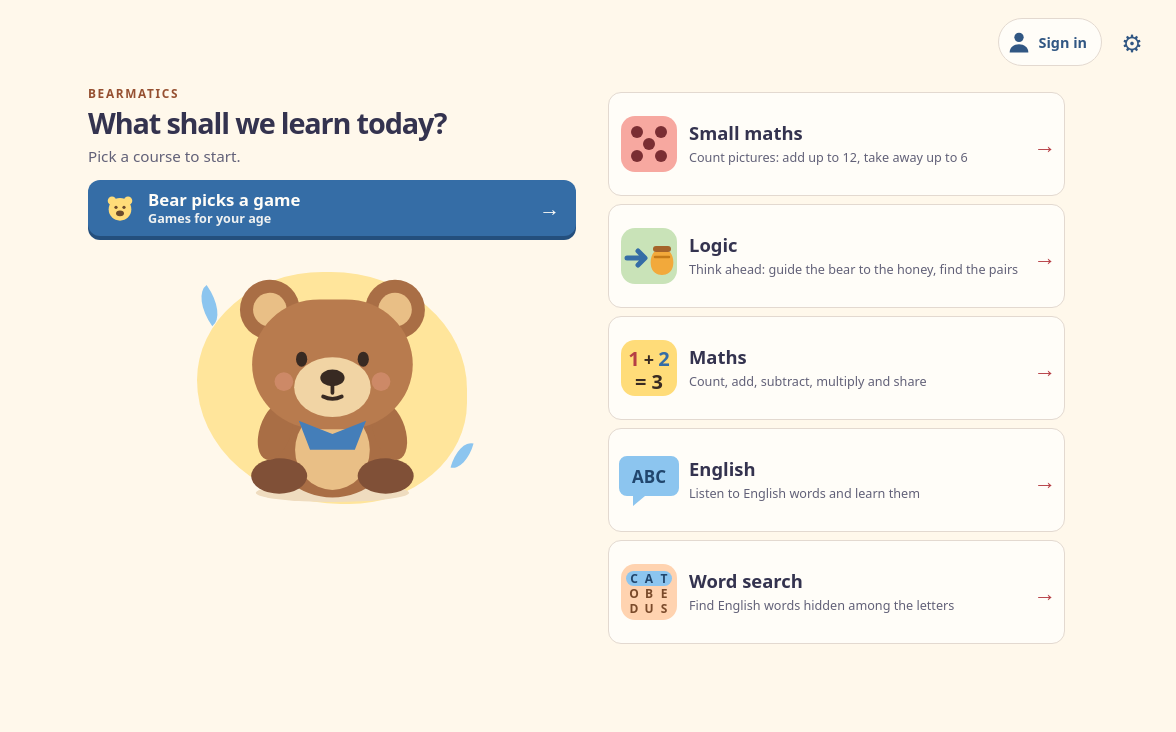
Test: answering › the row reads its pictures and "question mark"; choices are named, never "right"
Click the button "Logic": (649, 256) [608,204,1065,308]
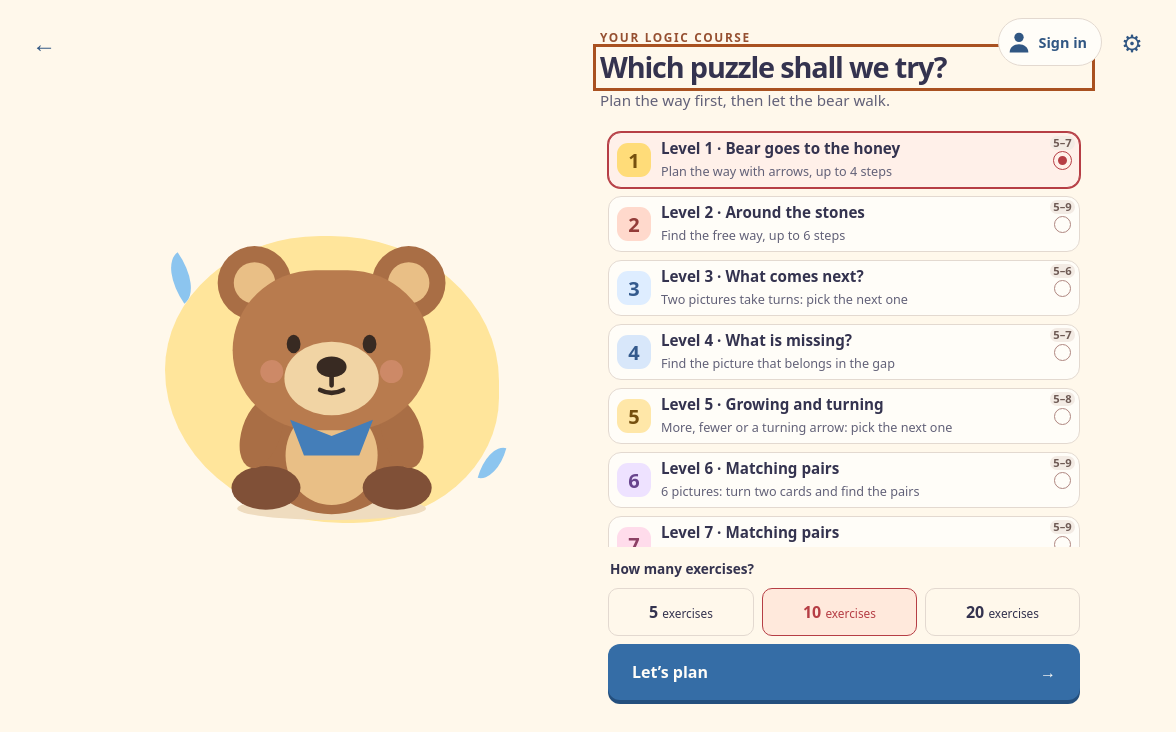
Click the radio button labelled "Level 3 ·": (844, 288) [608,260,1080,316]
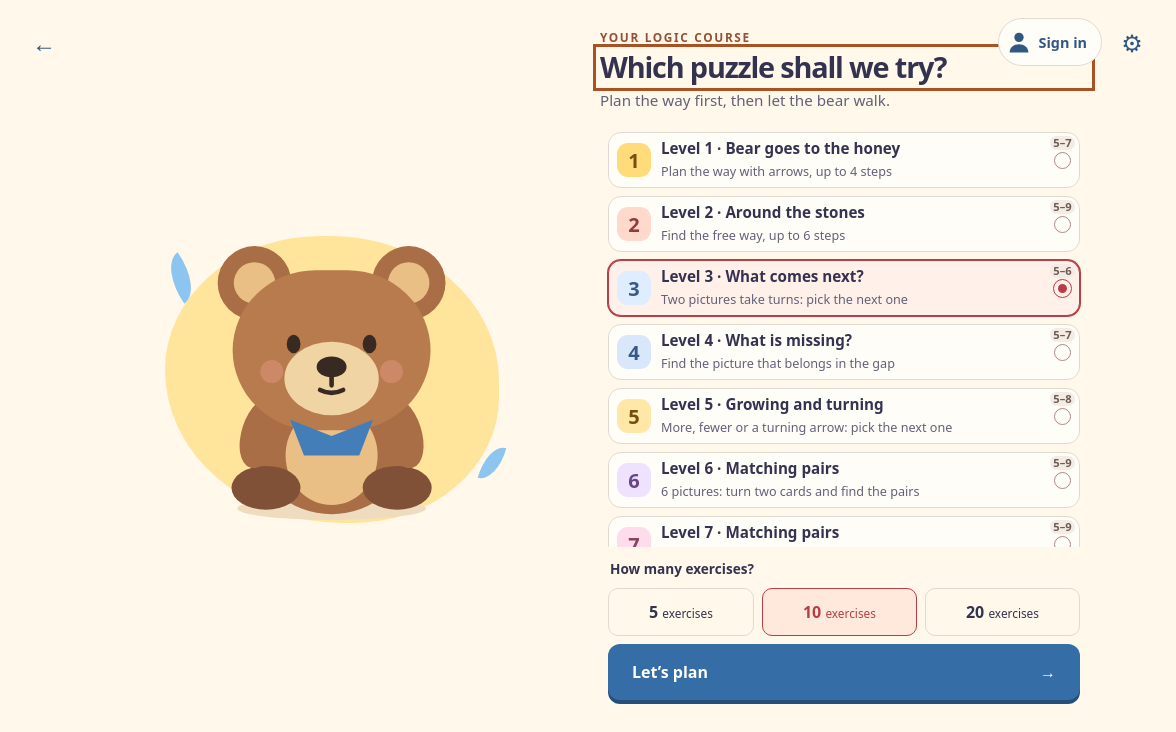
Click the radio button labelled "5 exercises": (681, 612) [608,588,754,636]
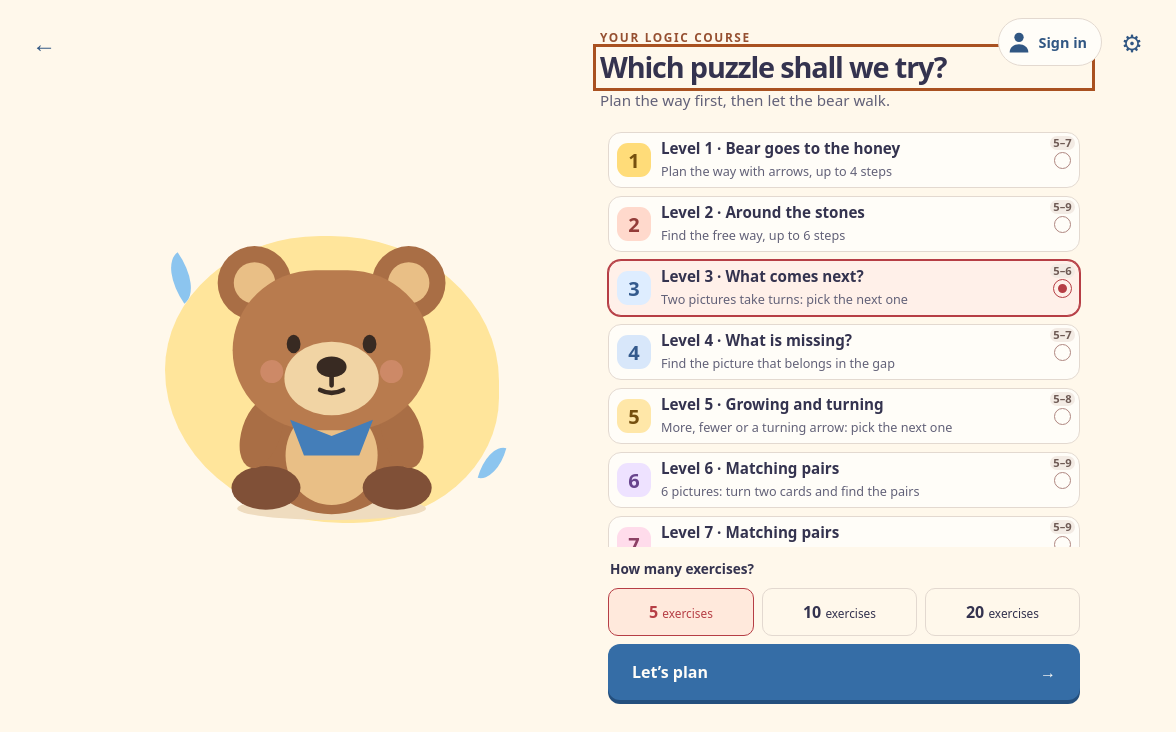
Click the button "Let’s plan →": (670, 672) [608,644,1080,700]
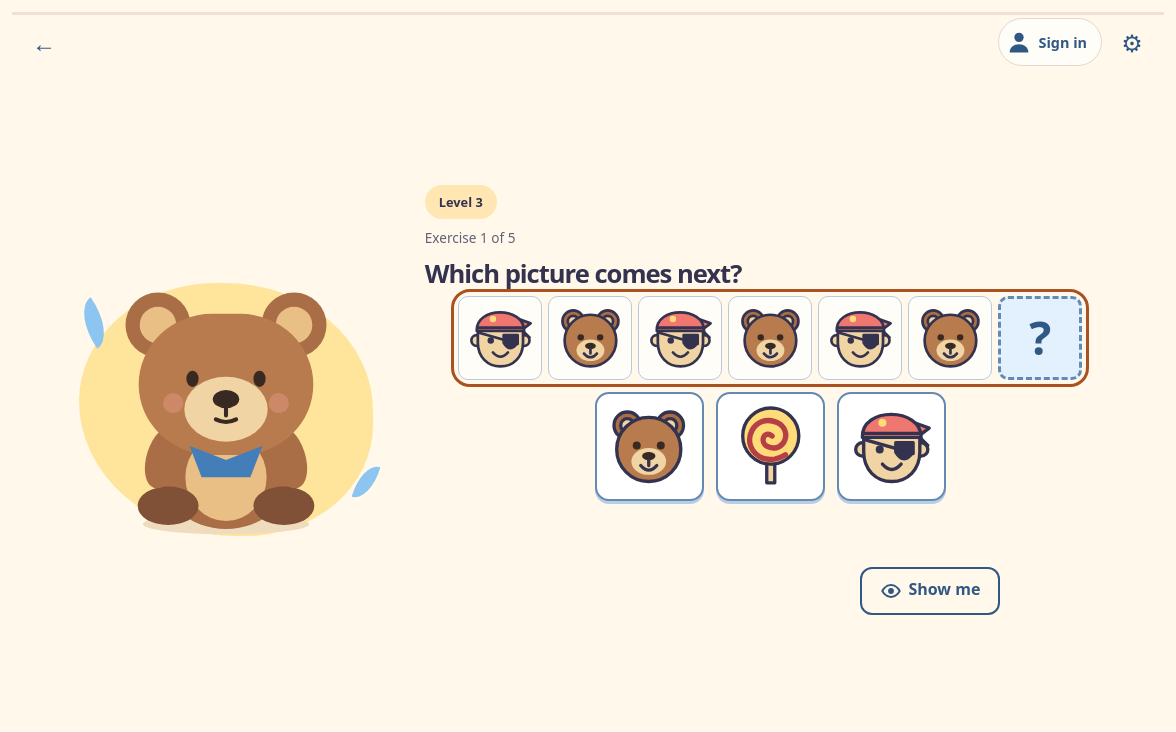
Now the heading reads "Which picture comes next?", box [425,256,741,291]
